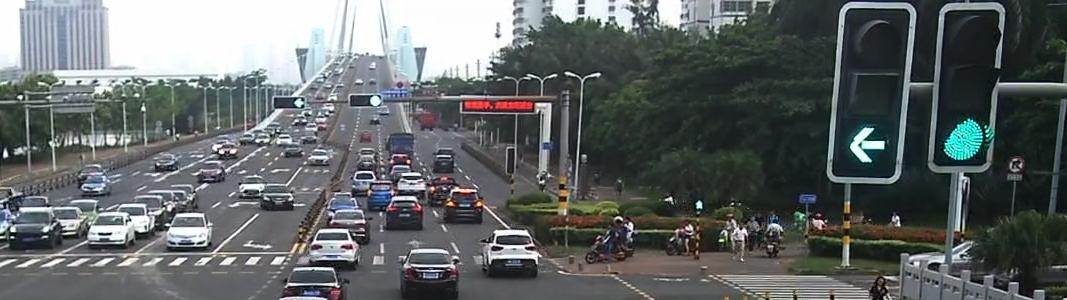green: (936, 118, 986, 163), (368, 94, 382, 107)
greenleft: (846, 121, 890, 165), (294, 95, 305, 109)
greenpeople: (695, 196, 706, 211)
